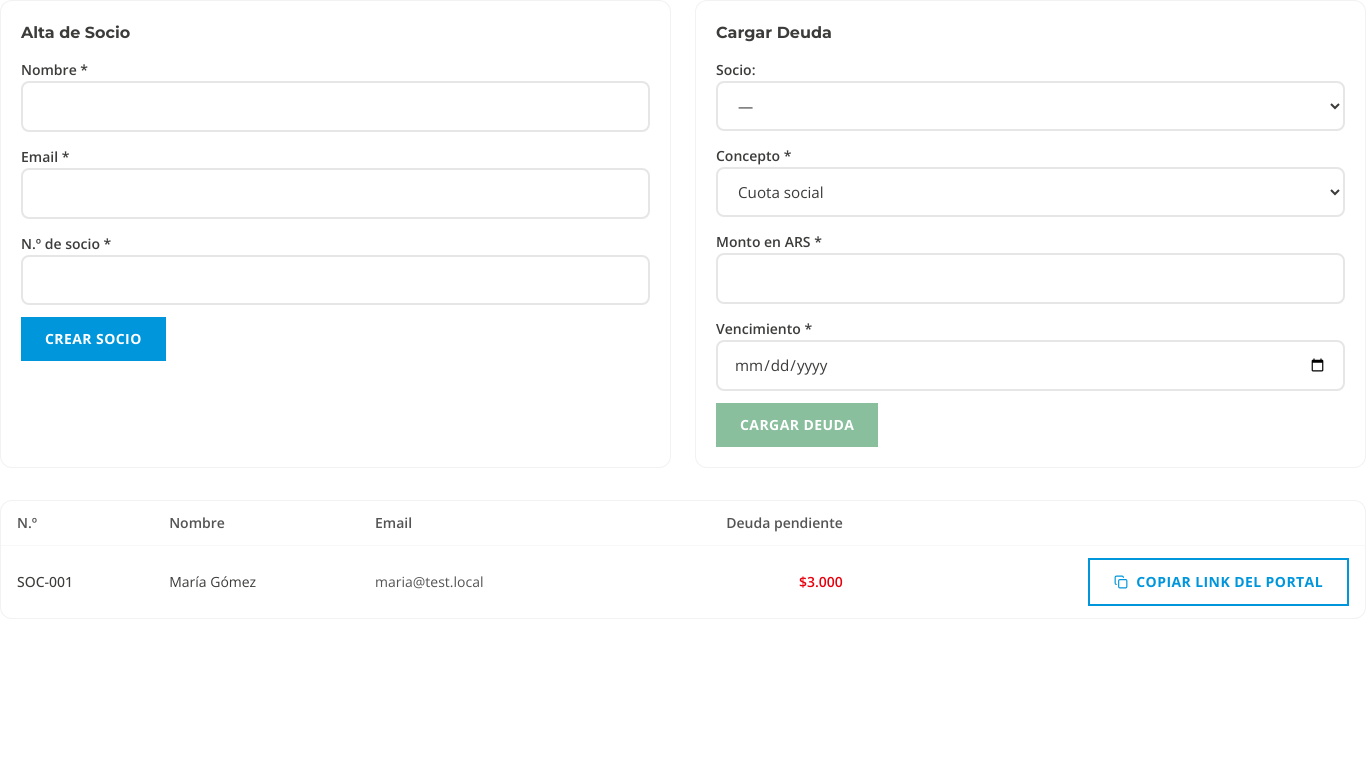
Test: SociosTab › copies the member's portal link to the clipboard and shows confirmation
This screenshot has width=1366, height=768.
Expected: the text "María Gómez" is shown, [153, 545, 359, 618]
Click the button "Copiar link del portal" at (1219, 582), box [1088, 558, 1349, 606]
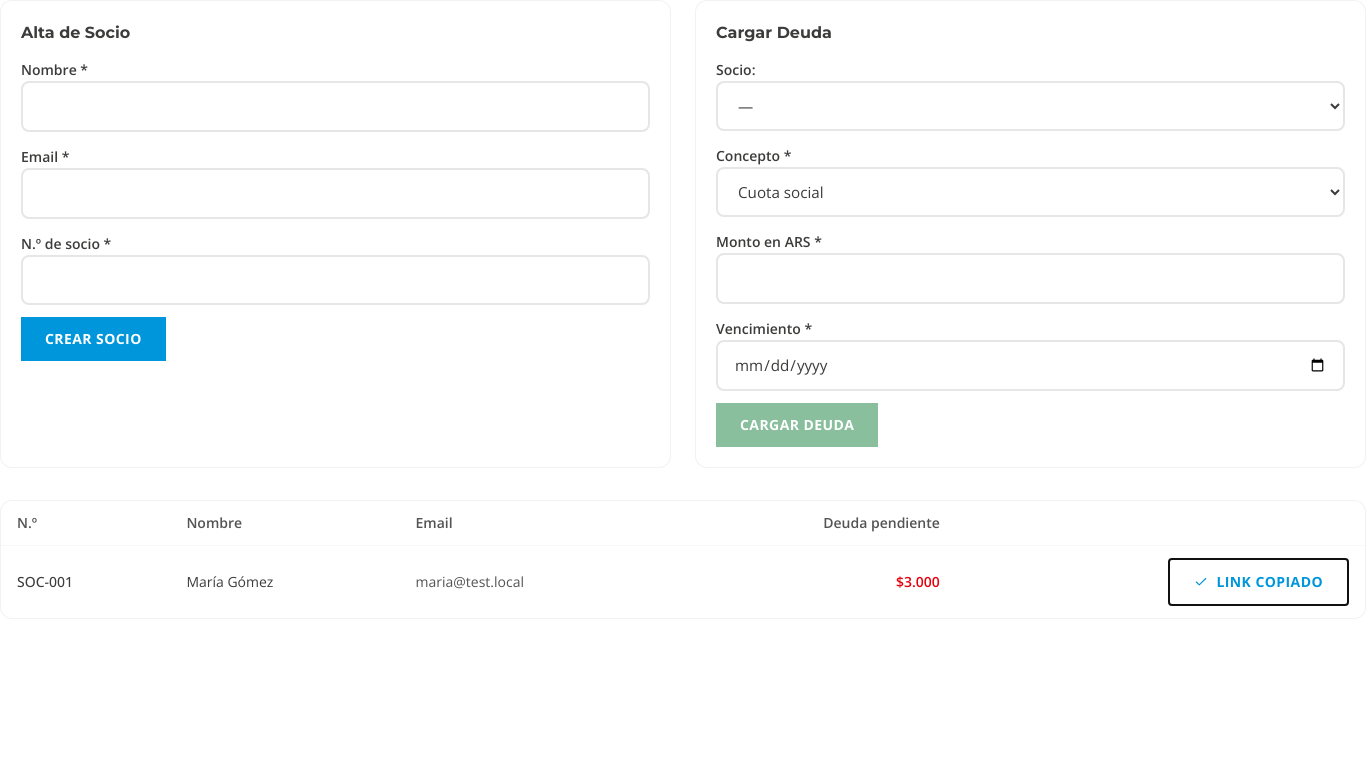
Expected: the button "Link copiado" is shown, [1168, 558, 1349, 606]
